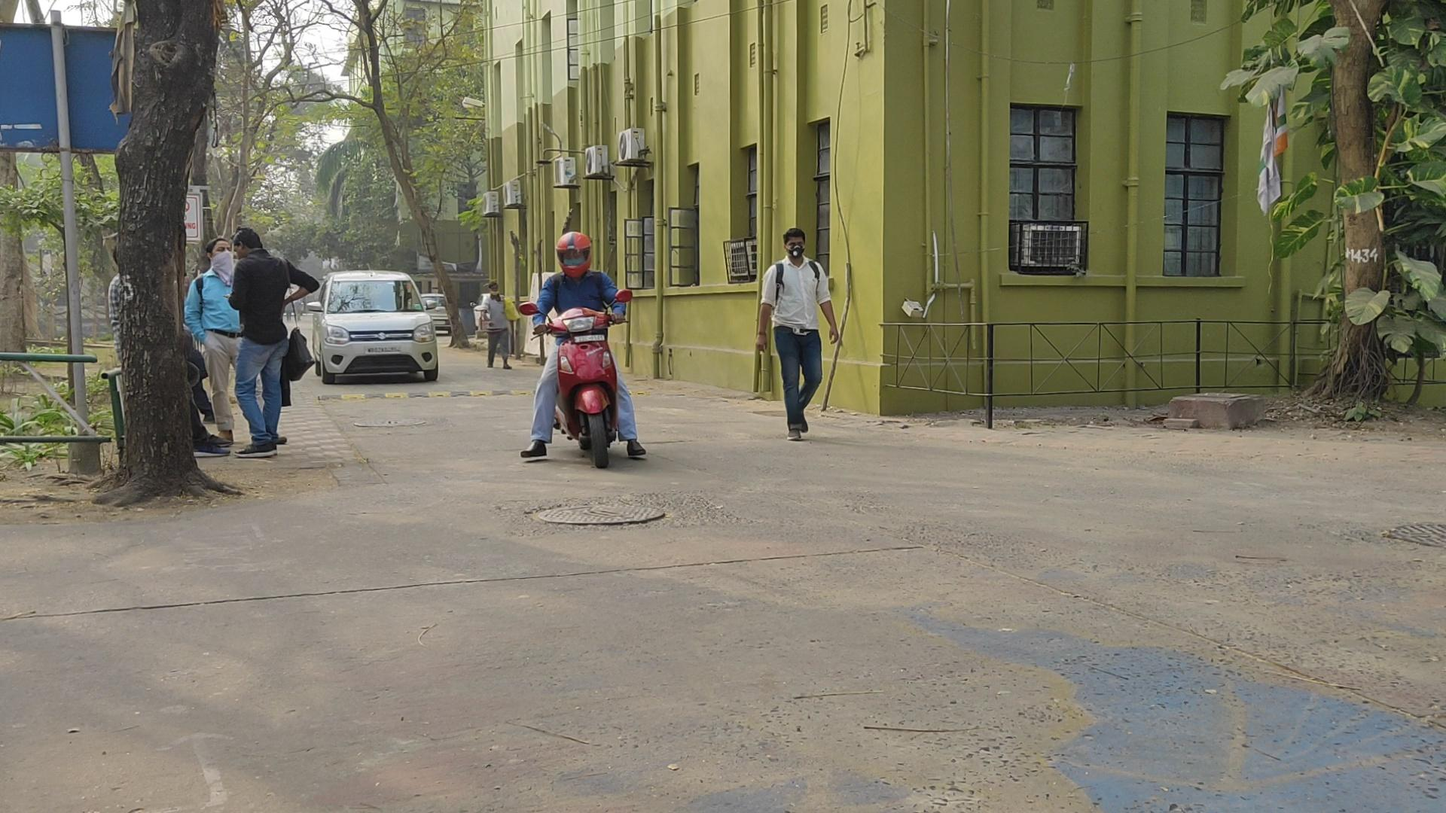bike: (526, 230, 642, 470)
car: (312, 269, 439, 380)
